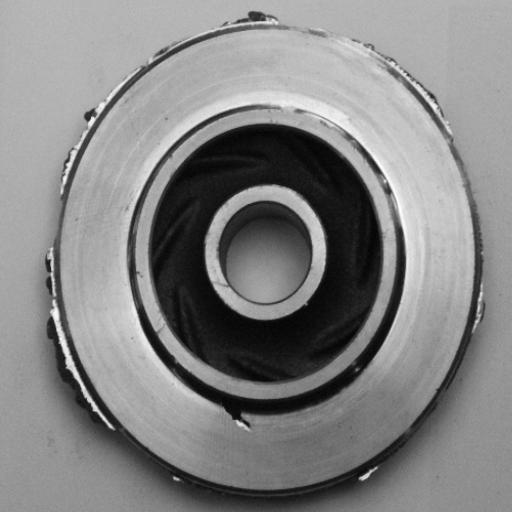casting_with_burr: (42, 9, 493, 503)
crack: (208, 395, 265, 435)
scratch: (269, 94, 375, 141)
